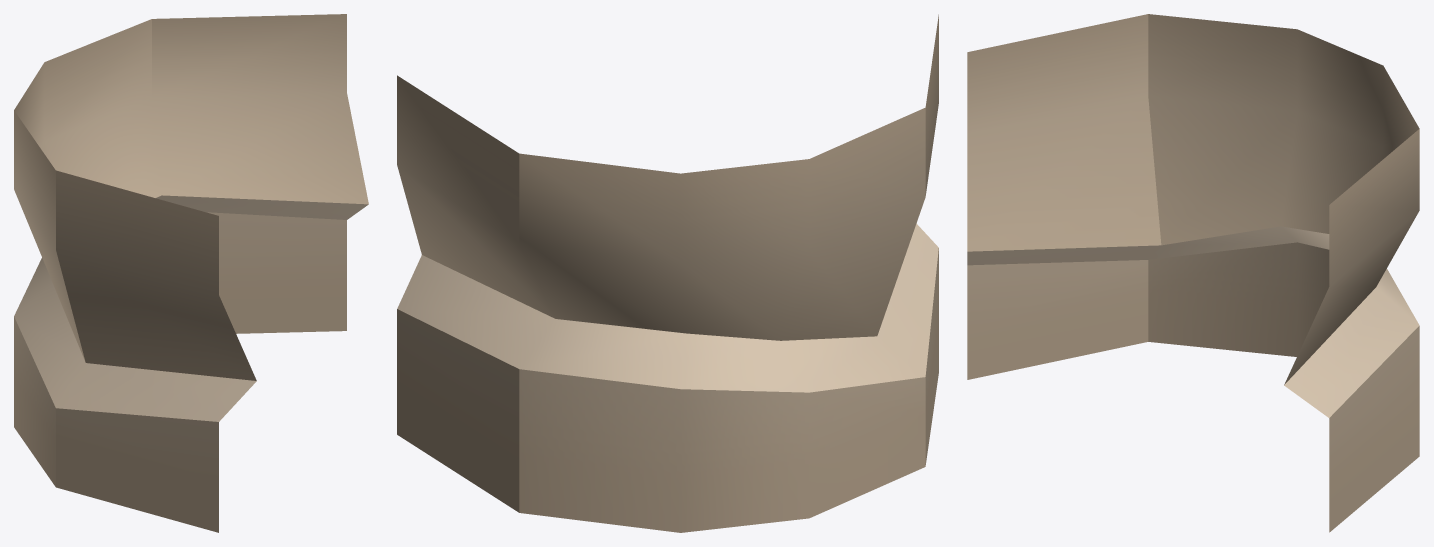
Rendered from Hill_Cliff_A_OuterCorner_Color7.fbx.
3 views of the same model, side by side, from view 1: azimuth 30°, elevation 25°; view 2: azimuth 150°, elevation 25°; view 3: azimuth 270°, elevation 25° (orthographic). The views are drawn at different scales.
Visible parts, largest first — view 1: Hill_Cliff_A_OuterCorner_Color7; view 2: Hill_Cliff_A_OuterCorner_Color7; view 3: Hill_Cliff_A_OuterCorner_Color7.
Boxes of the visible parts, bbox=[...] form: Hill_Cliff_A_OuterCorner_Color7: bbox=[14, 14, 368, 532]; Hill_Cliff_A_OuterCorner_Color7: bbox=[397, 14, 938, 532]; Hill_Cliff_A_OuterCorner_Color7: bbox=[967, 14, 1419, 532].
Size of the model in its own units: 2.5 by 2 by 2.5.
